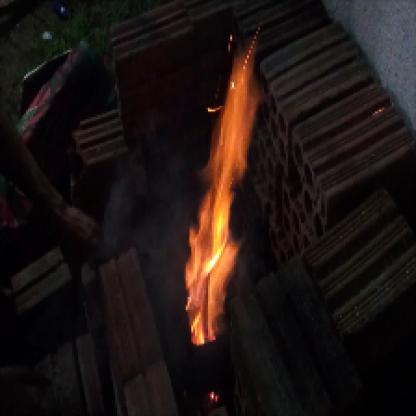Fire: (171, 28, 271, 349)
